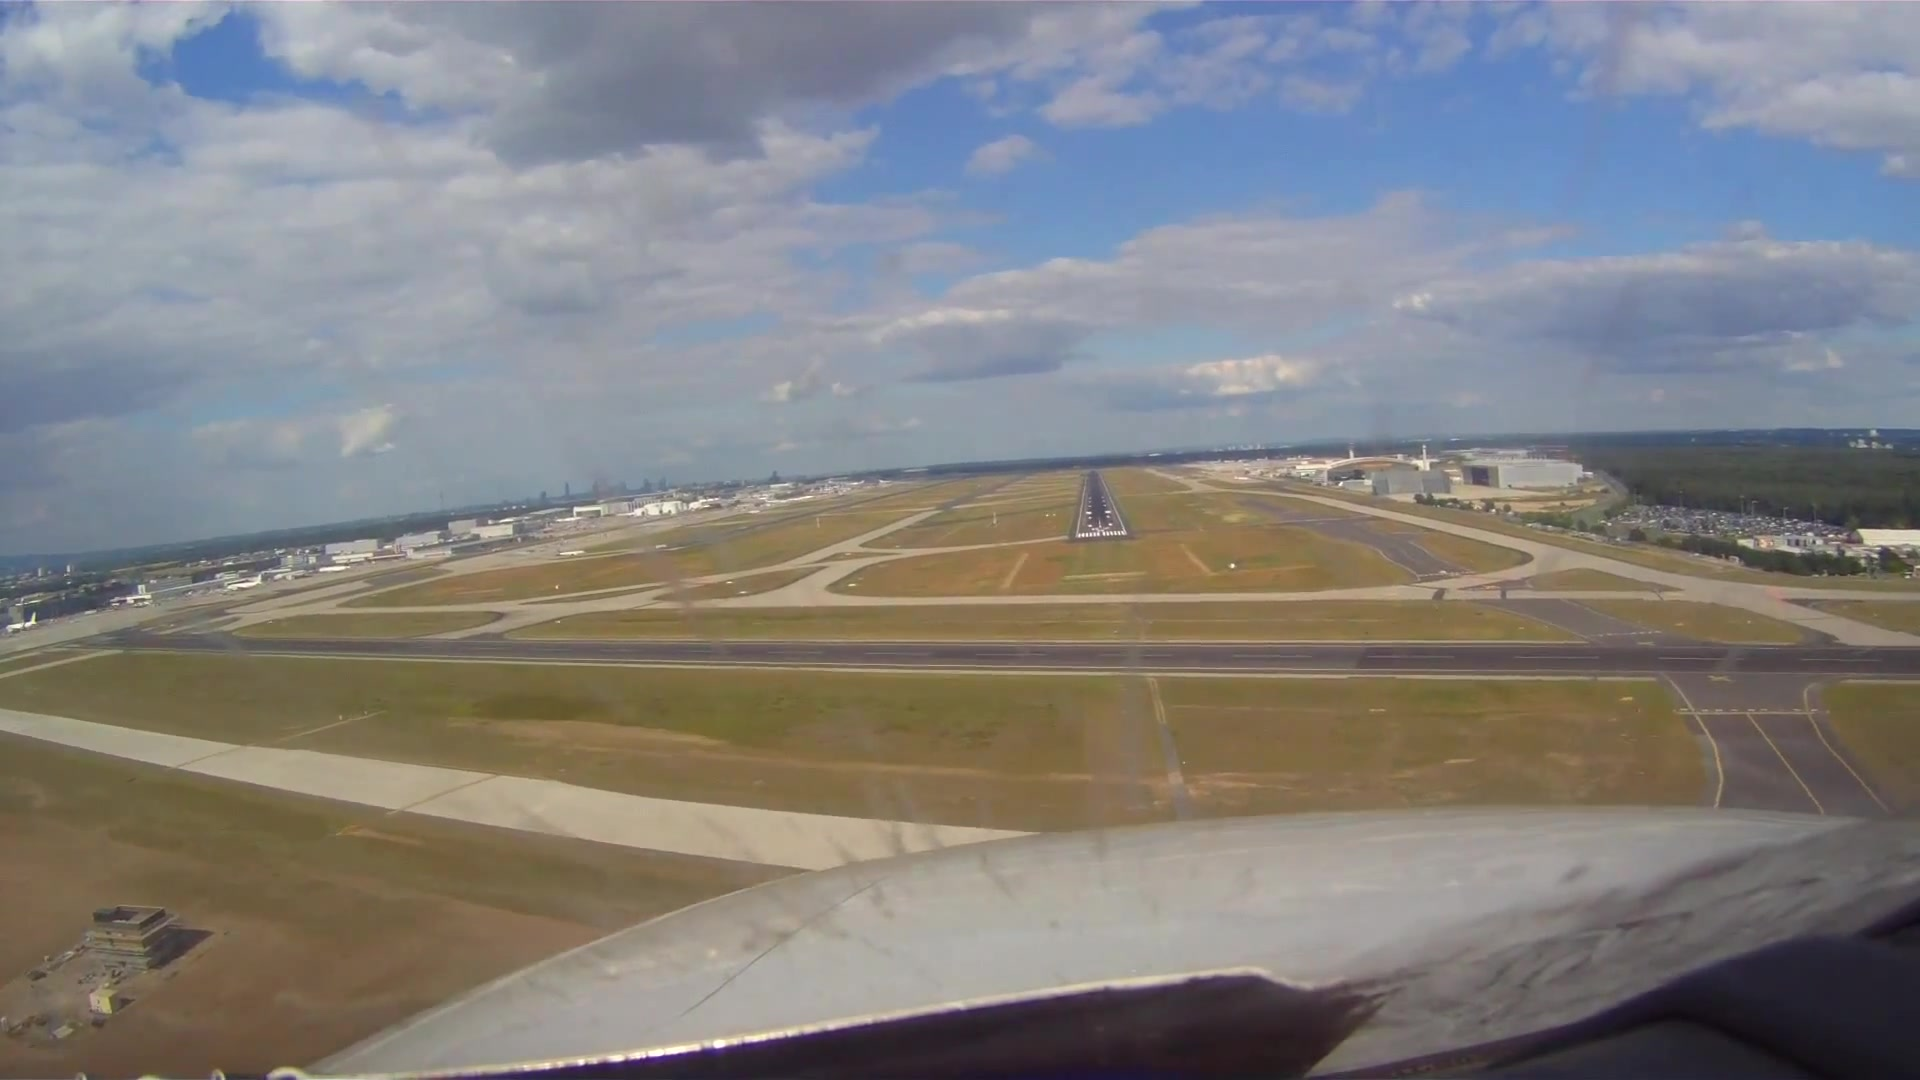entrance: (1075, 530, 1127, 538)
runway: (1072, 468, 1135, 545)
